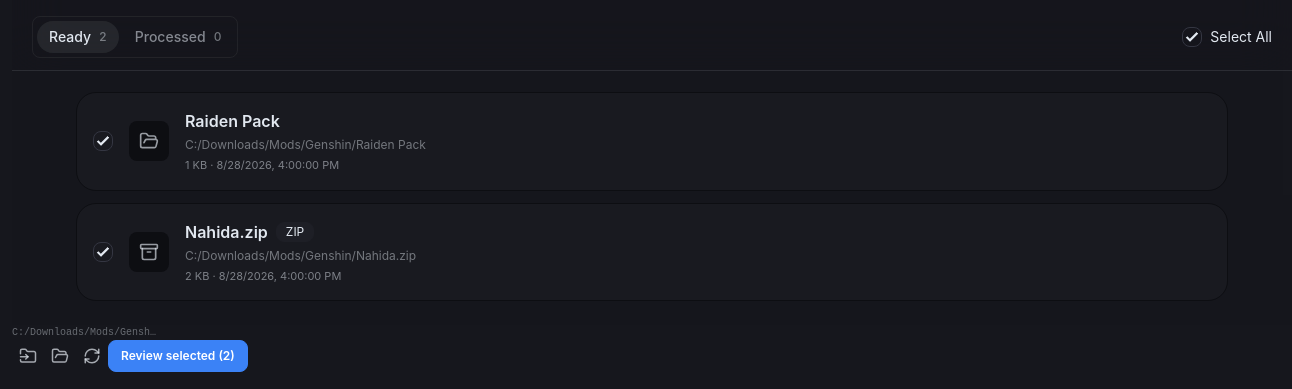
Test: ModInboxPage › preserves ready deselection and drops entries that become pending after a watcher refresh
The width and height of the screenshot is (1292, 389).
Click the checkbox named "Select Nahida.zip" at (103,252), box [93,242,113,262]
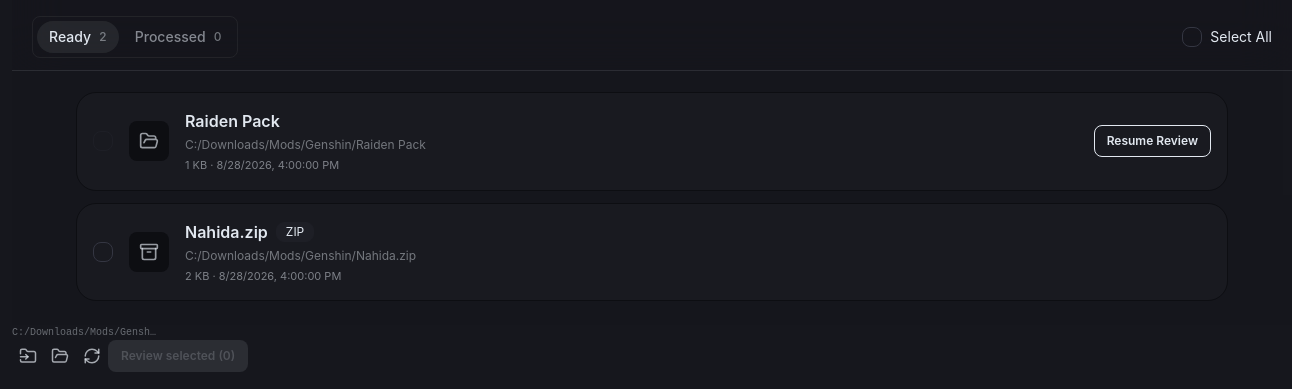
Expected: the checkbox named "Select Nahida.zip" is not checked, [93,242,113,262]
Expected: the button "Review selected (0)" is disabled, [108,340,248,372]
